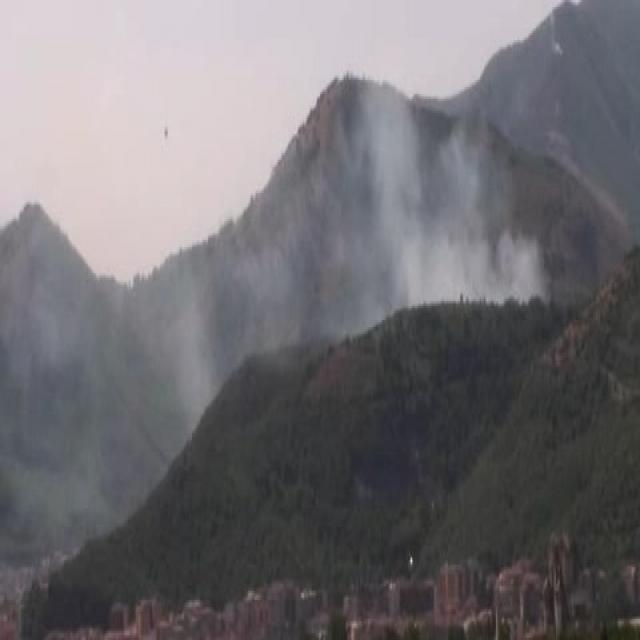smoke: (334, 97, 535, 303)
